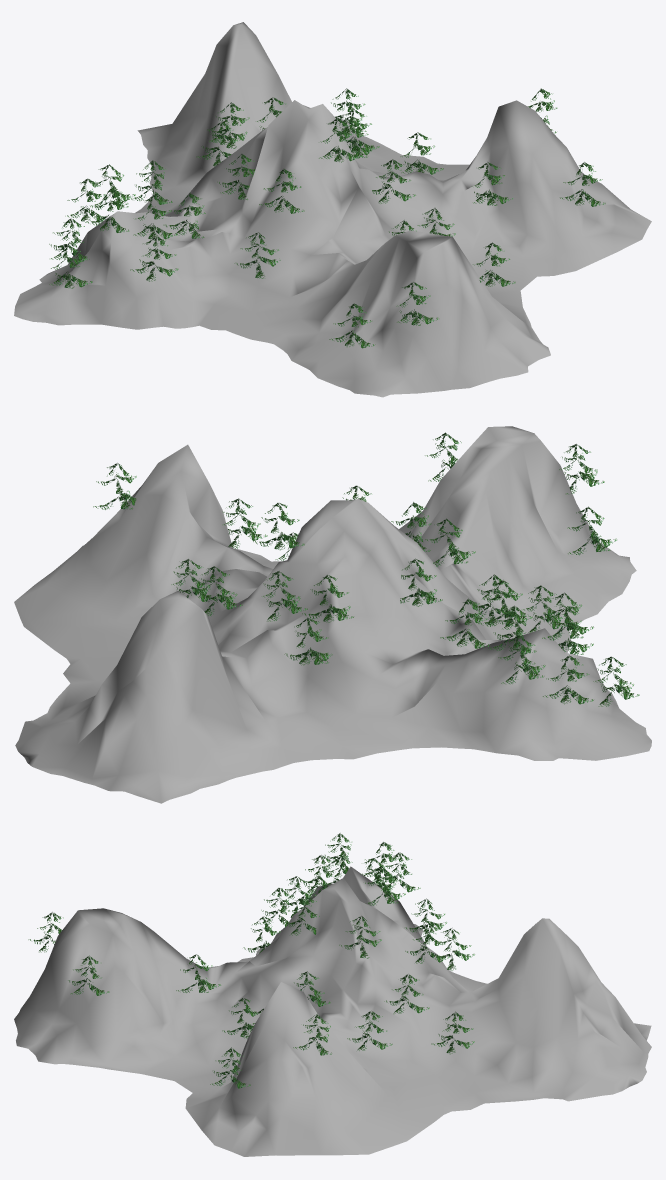
The model's file is snow_island_11.fbx.
3 views of the same model, one above another, from view 1: azimuth 30°, elevation 25°; view 2: azimuth 150°, elevation 25°; view 3: azimuth 270°, elevation 25° (orthographic). The views are drawn at different scales.
Visible parts, largest first — view 1: snow_island_11; view 2: snow_island_11; view 3: snow_island_11.
Part boxes in pixels (x1,y1,x2,y2): snow_island_11: (14,22,651,397); snow_island_11: (14,426,651,803); snow_island_11: (14,833,651,1156).
Bounding box in the file's own units: 0.7057 × 0.2051 × 0.7295.
2 materials, 1 textured.
